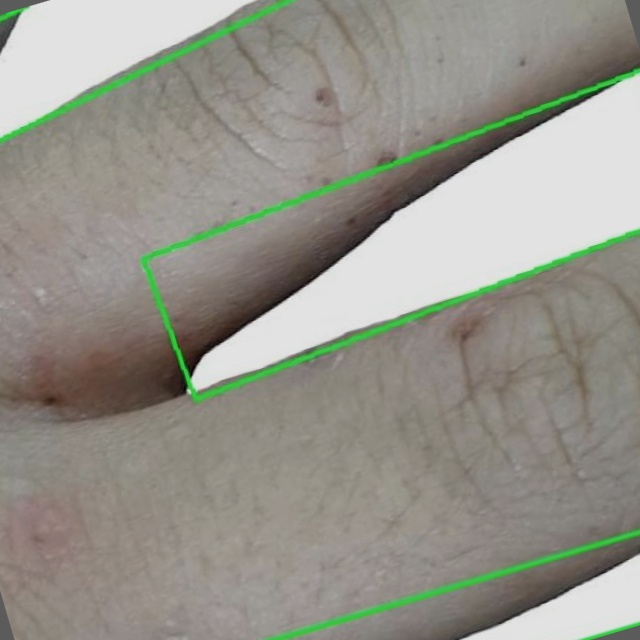Scabies: (143, 71, 639, 399)
